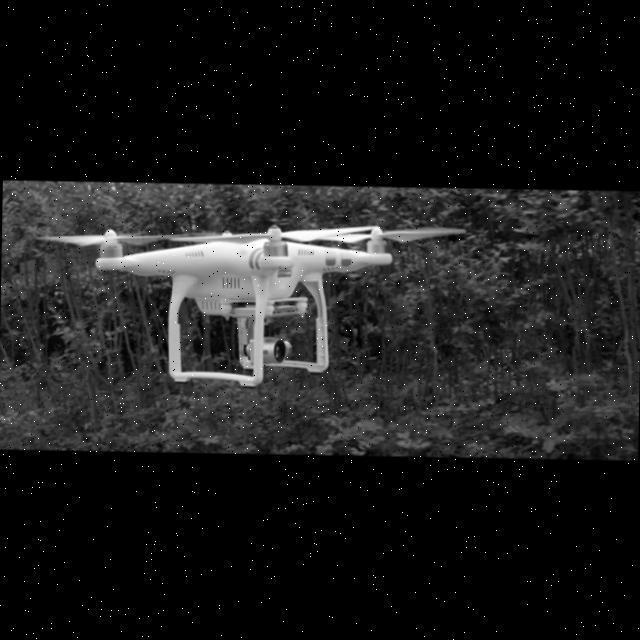Drons: (23, 211, 476, 392)
